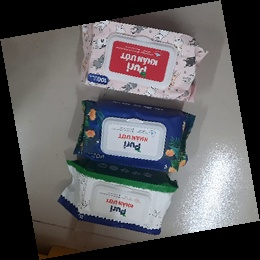Puri Trang: (55, 161, 180, 237)
Puri Xanh: (73, 99, 197, 174)
Puri hong: (76, 17, 208, 105)
